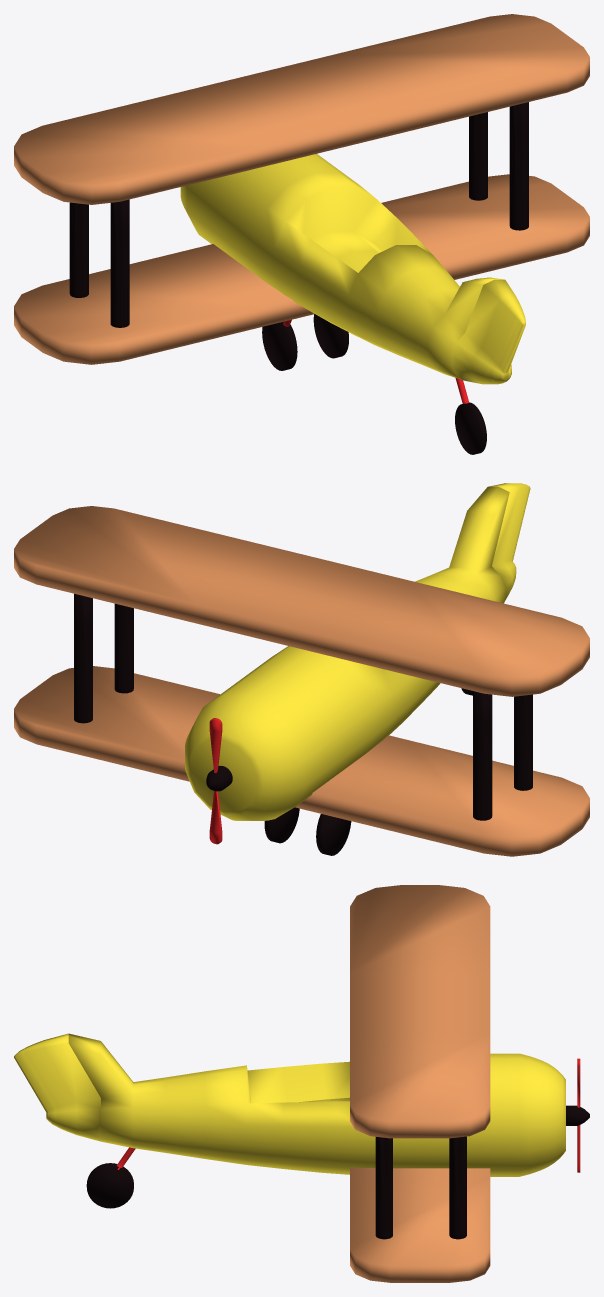
Rendered from AirPlaine.fbx.
3 views of the same model, one above another, from view 1: azimuth 30°, elevation 25°; view 2: azimuth 150°, elevation 25°; view 3: azimuth 270°, elevation 25° (orthographic). The views are drawn at different scales.
Parts seen in each view (by area): view 1: Plane.001, Cylinder, Plane, Cylinder.002, Cylinder.005, Cylinder.003, Cylinder.004, Circle, Circle.001, Circle.002; view 2: Plane.001, Plane, Cylinder, Cylinder.003, Cylinder.004, Cylinder.002, Cylinder.005, Circle, Circle.002, Plane.002, Plane.003, Cylinder.008; view 3: Cylinder, Plane.001, Plane, Cylinder.004, Cylinder.005, Circle.001.
Part boxes in pixels (box(x1,y1,x2,y2)): Plane.001: box(14, 14, 589, 204); Cylinder: box(180, 154, 525, 384); Plane: box(14, 174, 589, 364); Cylinder.002: box(110, 199, 129, 327); Cylinder.005: box(509, 102, 528, 230); Cylinder.003: box(69, 202, 88, 297); Cylinder.004: box(469, 112, 487, 200); Circle: box(262, 321, 297, 370); Circle.001: box(455, 402, 486, 454); Circle.002: box(313, 314, 348, 358); Plane.001: box(14, 506, 589, 696); Plane: box(14, 666, 589, 856); Cylinder: box(185, 483, 530, 820); Cylinder.003: box(473, 691, 492, 820); Cylinder.004: box(74, 593, 92, 723); Cylinder.002: box(514, 694, 532, 790); Cylinder.005: box(114, 603, 133, 693); Circle: box(316, 814, 351, 855); Circle.002: box(264, 807, 299, 843); Plane.002: box(209, 718, 222, 772); Plane.003: box(209, 791, 222, 844); Cylinder.008: box(206, 766, 232, 791); Cylinder: box(14, 1033, 565, 1176); Plane.001: box(350, 885, 490, 1138); Plane: box(350, 1167, 490, 1282); Cylinder.004: box(449, 1136, 466, 1239); Cylinder.005: box(375, 1137, 392, 1239); Circle.001: box(86, 1163, 133, 1208).
Size of the model in its own units: 795 by 366 by 820.
